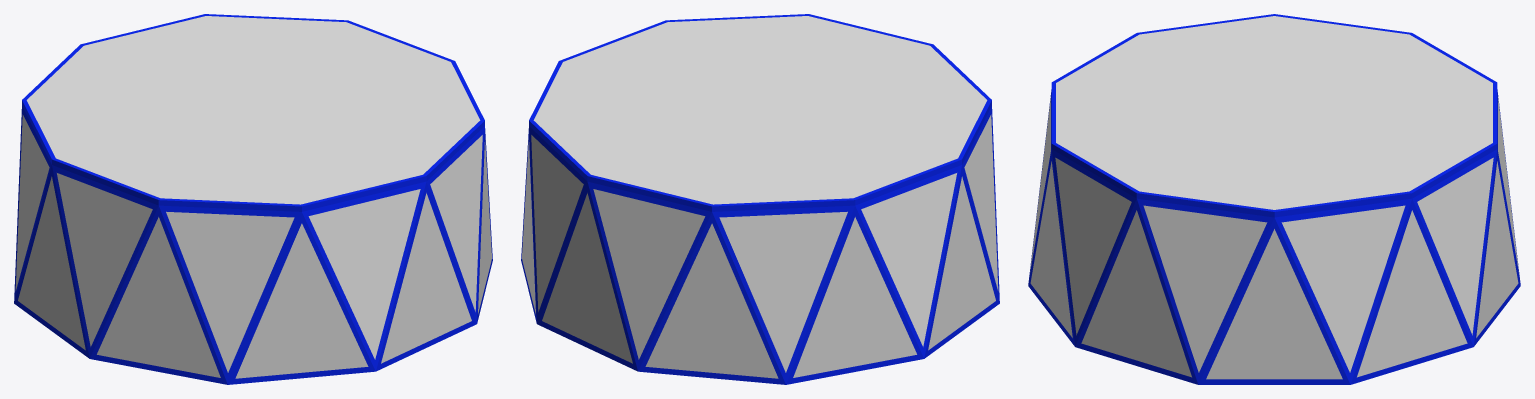
Rendered from battery.fbx.
3 renders of one model, left to right at view 1: azimuth 30°, elevation 25°; view 2: azimuth 150°, elevation 25°; view 3: azimuth 270°, elevation 25°, orthographic.
Visible parts, largest first — view 1: Base, Top; view 2: Base, Top; view 3: Base, Top.
Boxes of the visible parts, box(x1,y1,x2,y2) form: Base: box(14, 106, 492, 384); Top: box(22, 14, 484, 211); Base: box(521, 106, 999, 384); Top: box(529, 14, 991, 211); Base: box(1028, 89, 1520, 384); Top: box(1051, 14, 1497, 217).
Bounding box in the file's own units: 576 × 235 × 606.
